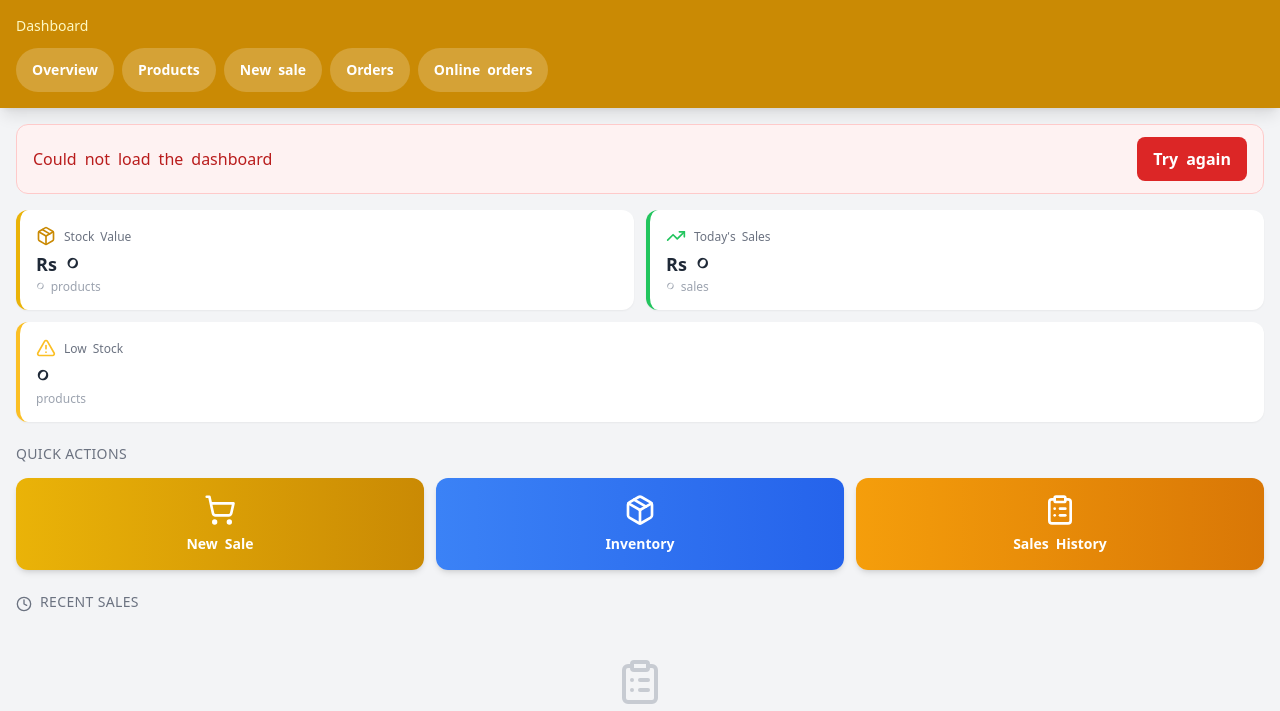
Test: BeekeepingDashboardPage › shows an error with a retry button when the dashboard cannot load, and recovers
The width and height of the screenshot is (1280, 711).
Expected: the message shows "Could not load the dashboard", [33, 145, 272, 172]
Click the button "Try again": click(1192, 159) [1137, 137, 1247, 181]
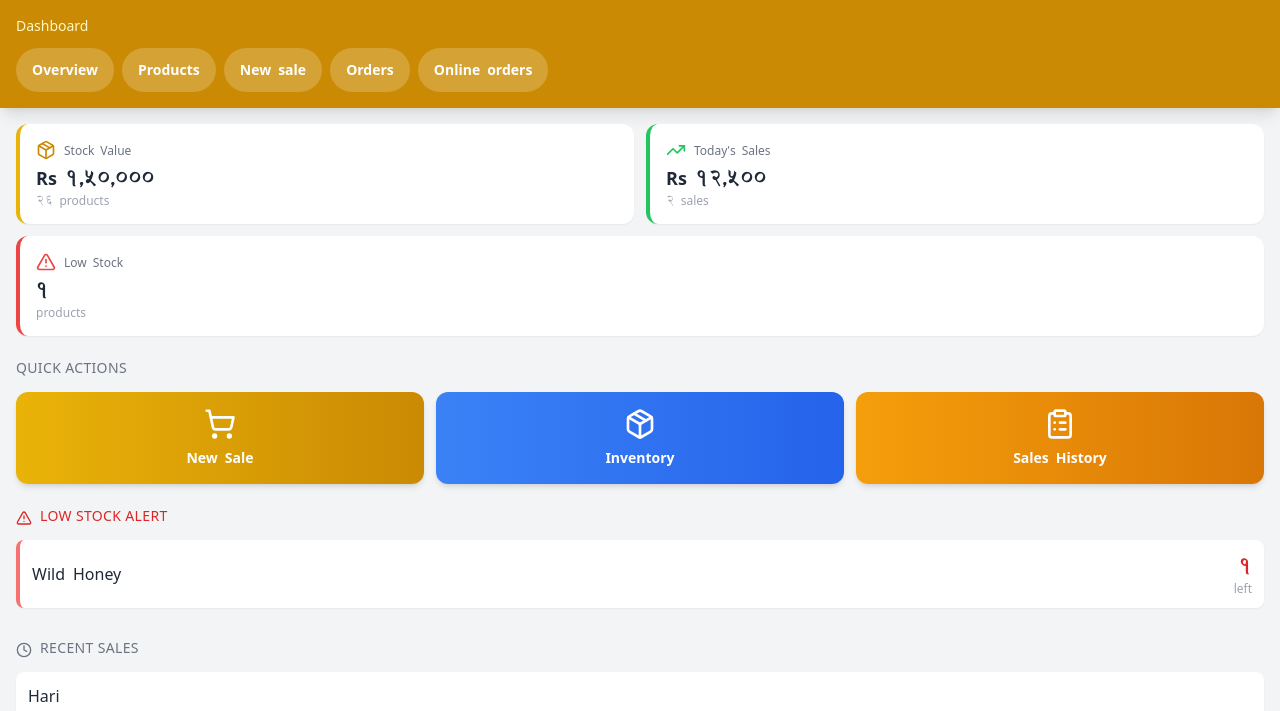
Expected: the text "Rs 1,50,000" is shown, [36, 163, 154, 193]
Expected: the message "Could not load the dashboard Try again" is gone
